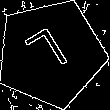L_SE: (24, 24, 78, 83)
